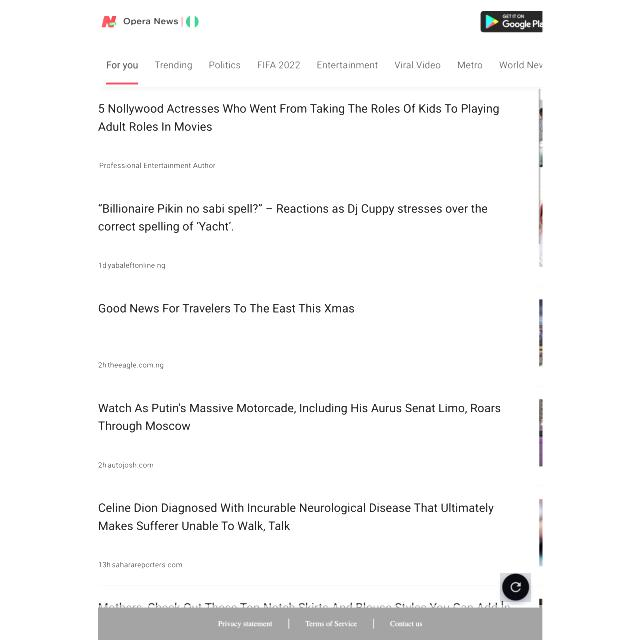CheckBox: (479, 9, 548, 33), (500, 574, 531, 604)
QR code: (96, 96, 533, 574)
badge: (97, 605, 543, 640)
bag: (94, 0, 548, 86)
date picker: (99, 9, 202, 34)
icon: (100, 56, 550, 86)
